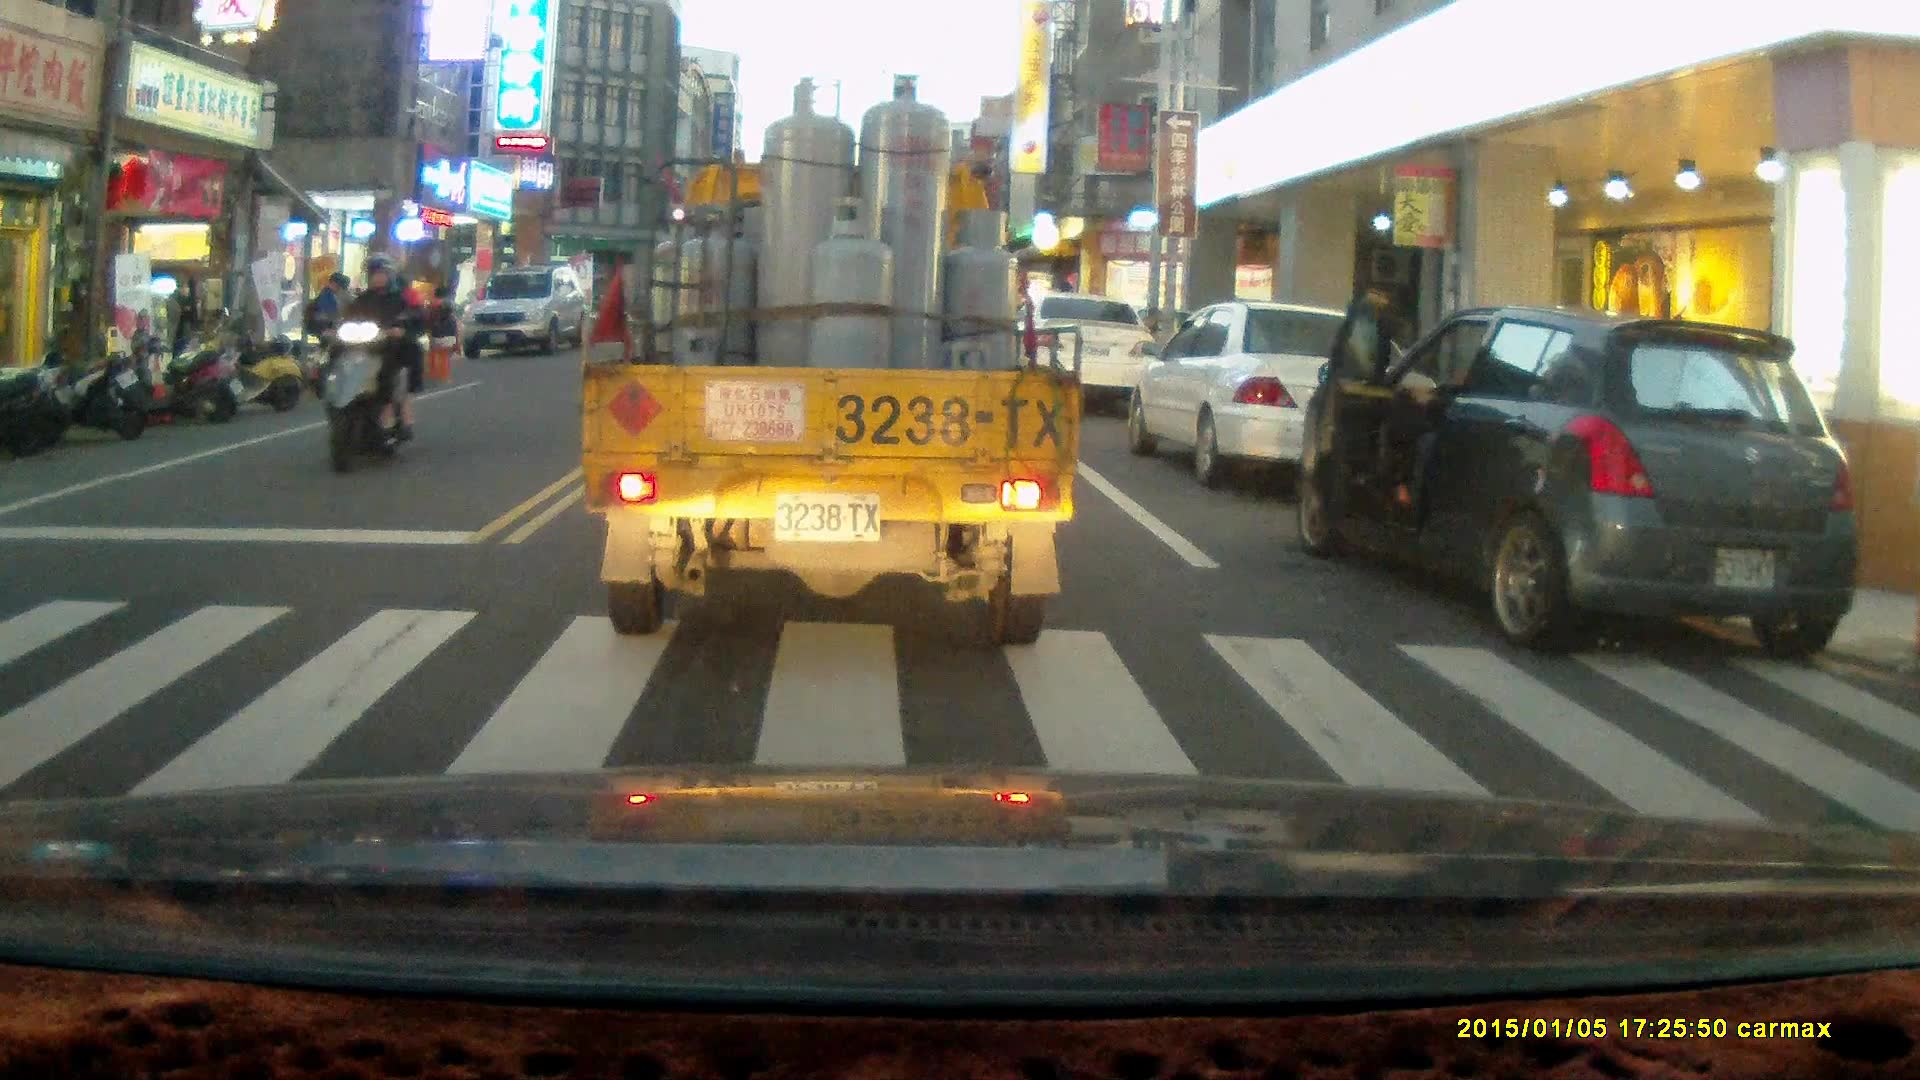pedestrian: (311, 273, 349, 391), (160, 280, 196, 392), (423, 284, 461, 384)
rider: (321, 254, 427, 472)
vehicle: (577, 66, 1075, 645), (1291, 311, 1861, 669), (1128, 305, 1431, 490), (1026, 295, 1160, 413), (459, 270, 590, 365)
